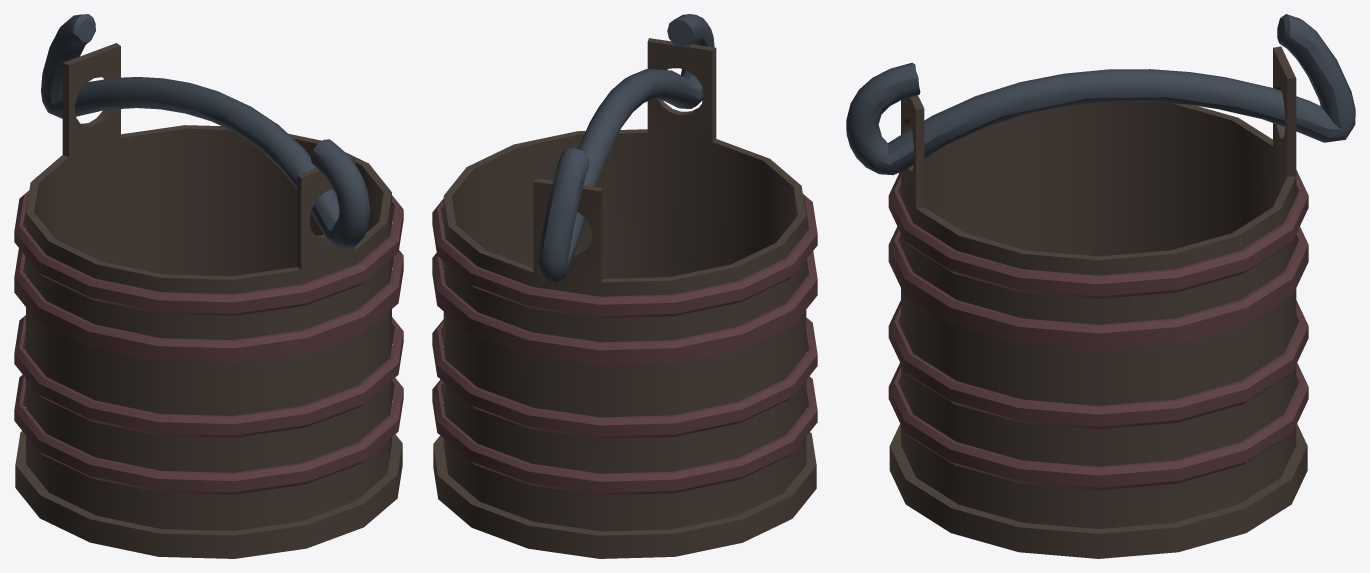
The model's file is bucket.fbx.
3 views of the same model, side by side, from view 1: azimuth 30°, elevation 25°; view 2: azimuth 150°, elevation 25°; view 3: azimuth 270°, elevation 25° (orthographic). The views are drawn at different scales.
Visible parts, largest first — view 1: BezierCurve; view 2: BezierCurve; view 3: BezierCurve.
Part boxes in pixels (x1,y1,x2,y2): BezierCurve: [14, 14, 403, 558]; BezierCurve: [432, 14, 817, 558]; BezierCurve: [846, 14, 1355, 558].
Bounding box in the file's own units: 0.8503 × 0.9732 × 1.03.
